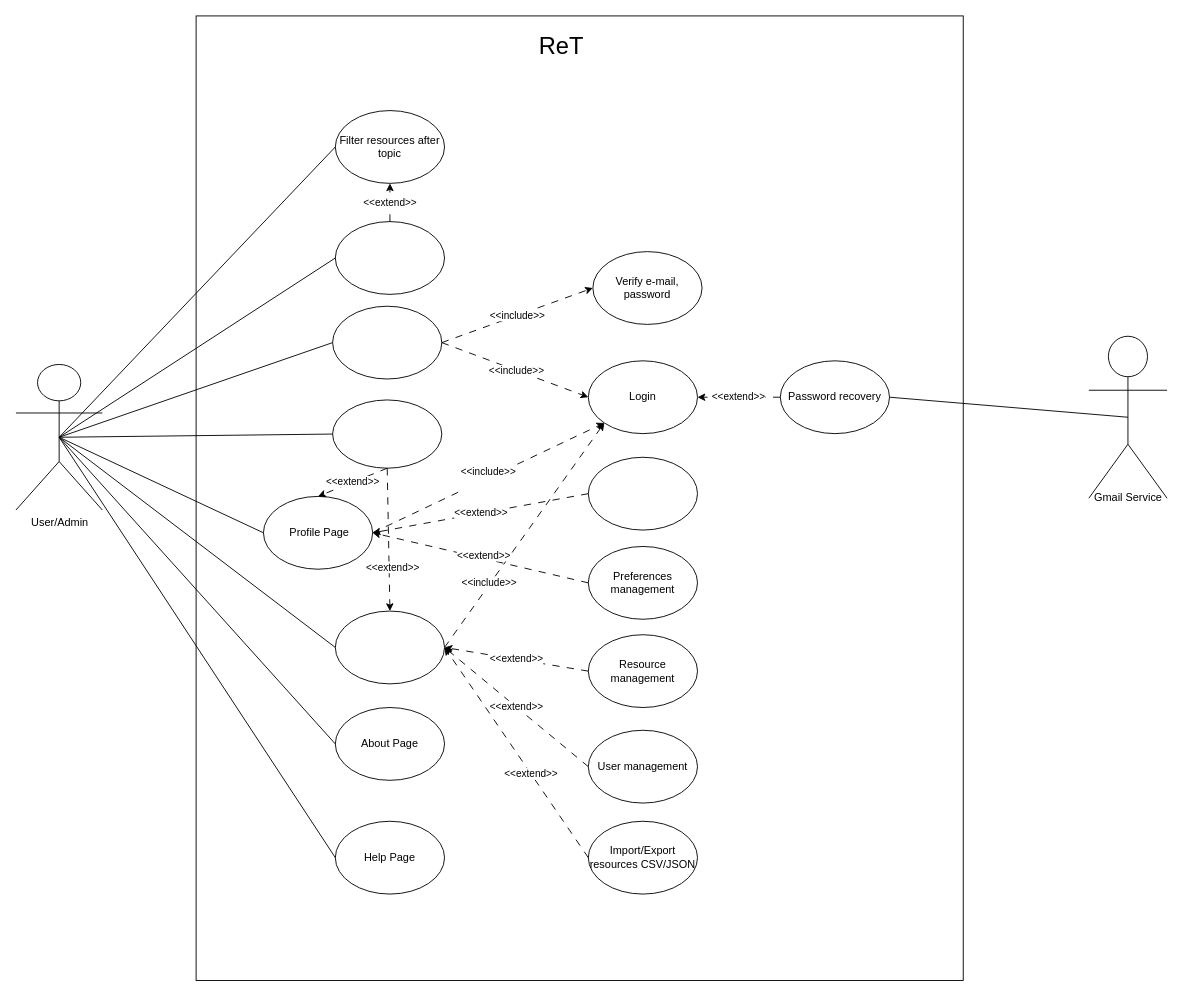
Some shapes in this 1186 by 996 pixel diagram are drawn without their labels. The box of each missing label's shape, as (x1, y1, x2, y2) in pixels:
Actor: (1088, 335, 1167, 498)
Admin Page: (334, 610, 445, 684)
Change passwprd: (587, 456, 698, 530)
Generate Rss: (334, 221, 445, 294)
Logout: (332, 399, 442, 468)
Register: (332, 305, 442, 379)
